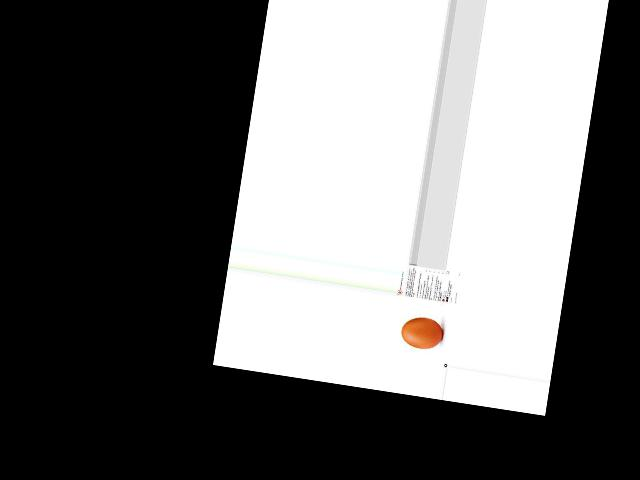egg: (400, 314, 444, 351)
